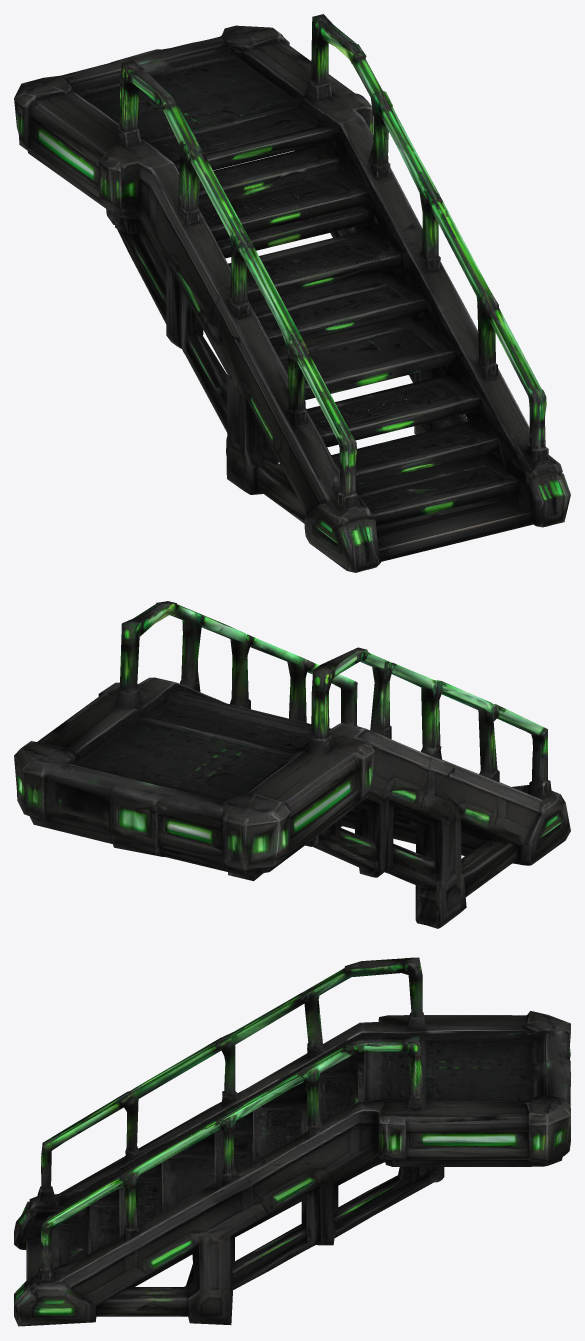
The model's file is staircase-to-catwalk.glb.
3 renders of one model, top to bottom at view 1: azimuth 30°, elevation 25°; view 2: azimuth 150°, elevation 25°; view 3: azimuth 270°, elevation 25°, orthographic. The views are drawn at different scales.
Parts seen in each view (by area): view 1: material; view 2: material; view 3: material.
Part boxes in pixels (<box>): material: <box>14,14,570,572</box>; material: <box>14,601,570,928</box>; material: <box>14,957,570,1326</box>.
Bounding box in the file's own units: 0.4647 × 0.564 × 1.
Materials: 1 (1 with a texture image).
